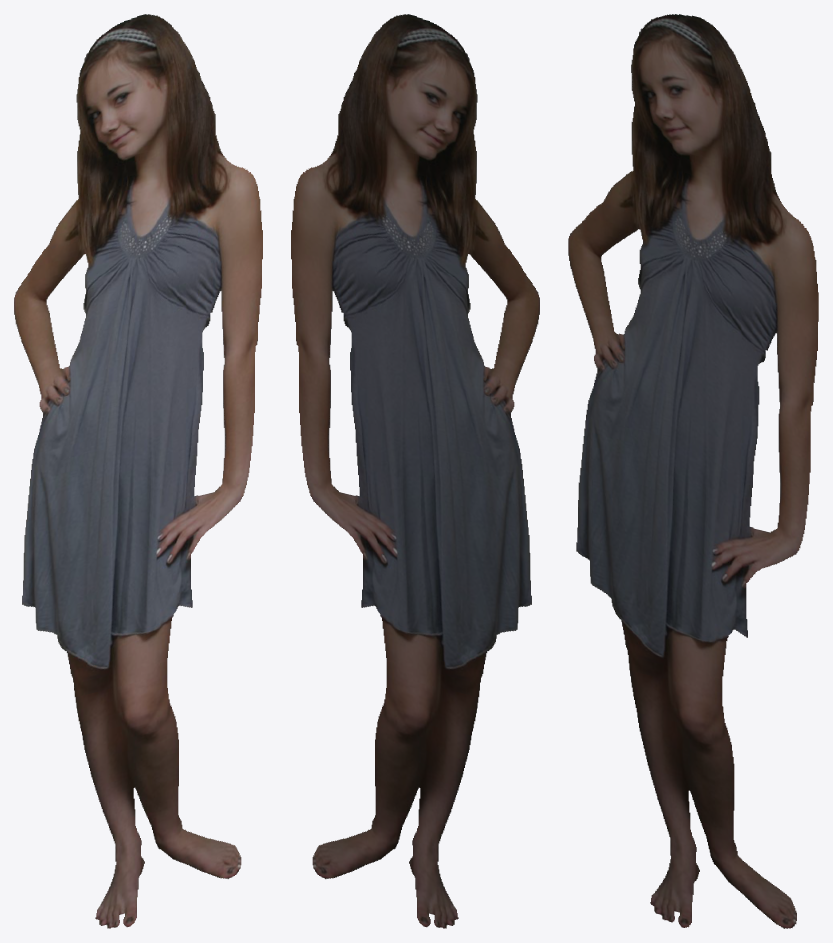
3 views of the same model, side by side, from view 1: azimuth 30°, elevation 25°; view 2: azimuth 150°, elevation 25°; view 3: azimuth 330°, elevation 25° (orthographic).
Parts seen in each view (by area): view 1: SketchUp; view 2: SketchUp; view 3: SketchUp.
Boxes of the visible parts, box(x1,y1,x2,y2) form: SketchUp: box(14, 14, 262, 928); SketchUp: box(291, 14, 539, 928); SketchUp: box(568, 14, 818, 928).
Bounding box in the file's own units: 18.18 × 2.43e-14 × 63.44.
1 material, 1 textured.
